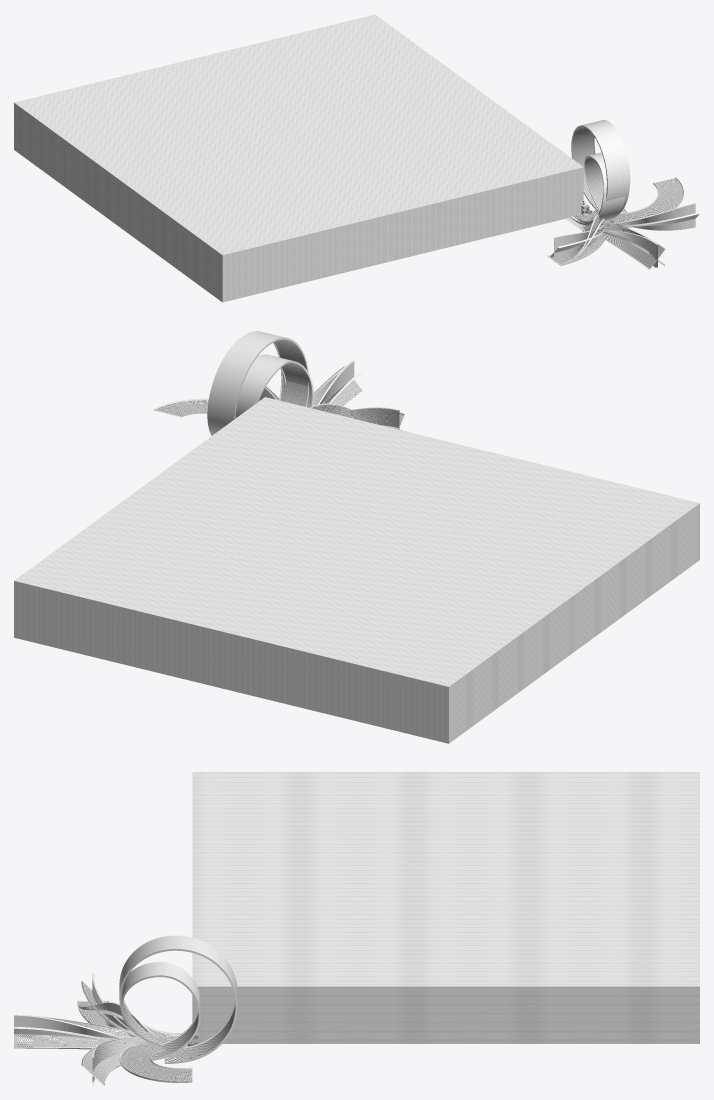
Rendered from F_PrototypeProps.FBX.
3 views of the same model, one above another, from view 1: azimuth 30°, elevation 25°; view 2: azimuth 150°, elevation 25°; view 3: azimuth 270°, elevation 25° (orthographic). The views are drawn at different scales.
Parts seen in each view (by area): view 1: Box_512x64x512, Road_Ring_Big, Road_Ring, Road_Turn_180_Uphill, Road_Turn_90_WithTwist_90_L, Road_Twist_45_R, Road_Turn_90_WithTwist_90_R, Road_Twist_90_L; view 2: Box_512x64x512, Road_Ring_Big, Road_Ring, Road_Turn_90_WithTwist_90_R, Road_Turn_180_Uphill; view 3: Box_512x64x512, Road_Ring_Big, Road_Ring, Road_Turn_180_Uphill, Road_Twist_45_L, Road_Twist_90_R, Road_Turn_90_WithTwist_90_L, Road_Turn_90_WithTwist_45_L, Road_Twist_90_L, Road_Turn_90_90, Road_Twist_45_R.
Boxes of the visible parts, x1=… form: Box_512x64x512: x1=14, y1=14, x2=583, y2=302; Road_Ring_Big: x1=571, y1=120, x2=630, y2=223; Road_Ring: x1=569, y1=152, x2=633, y2=228; Road_Turn_180_Uphill: x1=573, y1=177, x2=683, y2=225; Road_Turn_90_WithTwist_90_L: x1=581, y1=203, x2=695, y2=230; Road_Twist_45_R: x1=600, y1=232, x2=665, y2=269; Road_Turn_90_WithTwist_90_R: x1=553, y1=221, x2=604, y2=261; Road_Twist_90_L: x1=589, y1=224, x2=657, y2=267; Box_512x64x512: x1=14, y1=397, x2=699, y2=743; Road_Ring_Big: x1=207, y1=331, x2=308, y2=435; Road_Ring: x1=235, y1=354, x2=313, y2=417; Road_Turn_90_WithTwist_90_R: x1=334, y1=407, x2=399, y2=429; Road_Turn_180_Uphill: x1=154, y1=398, x2=208, y2=417; Box_512x64x512: x1=192, y1=772, x2=699, y2=1043; Road_Ring_Big: x1=119, y1=935, x2=237, y2=1063; Road_Ring: x1=120, y1=962, x2=200, y2=1060; Road_Turn_180_Uphill: x1=119, y1=1035, x2=192, y2=1082; Road_Twist_45_L: x1=14, y1=1034, x2=106, y2=1049; Road_Twist_90_R: x1=14, y1=1015, x2=156, y2=1045; Road_Turn_90_WithTwist_90_L: x1=92, y1=1036, x2=147, y2=1085; Road_Turn_90_WithTwist_45_L: x1=81, y1=1046, x2=120, y2=1085; Road_Twist_90_L: x1=14, y1=1015, x2=173, y2=1041; Road_Turn_90_90: x1=77, y1=1000, x2=169, y2=1042; Road_Twist_45_R: x1=14, y1=1027, x2=143, y2=1044.
Size of the model in its own units: 642597 by 121193 by 692000.
4 materials, 4 textured.
